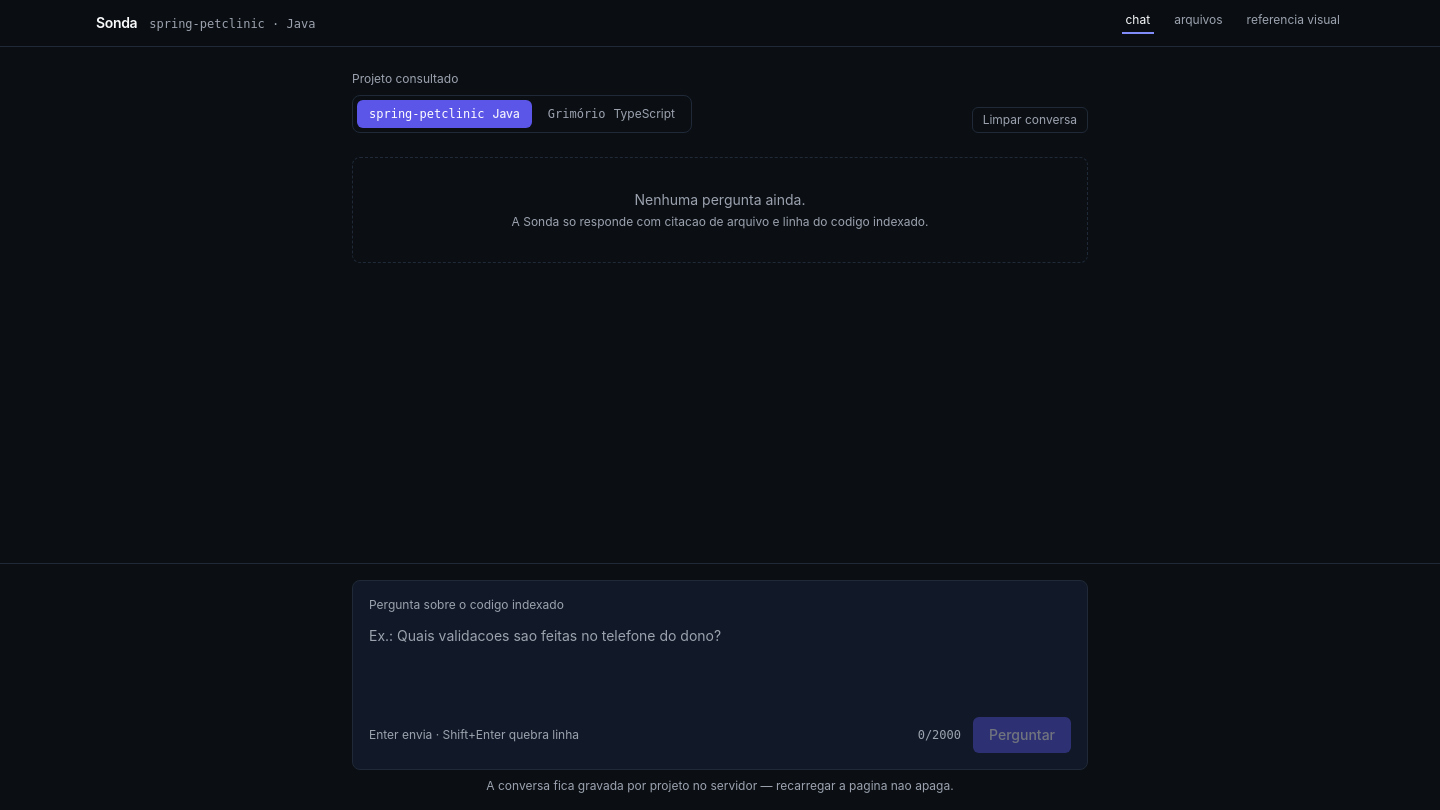
Test: historico por projeto › nunca mostra respostas de dois projetos ao mesmo tempo
In the text box labelled "Pergunta sobre o codigo indexado": point(720, 665) [369, 625, 1071, 705], type "um"
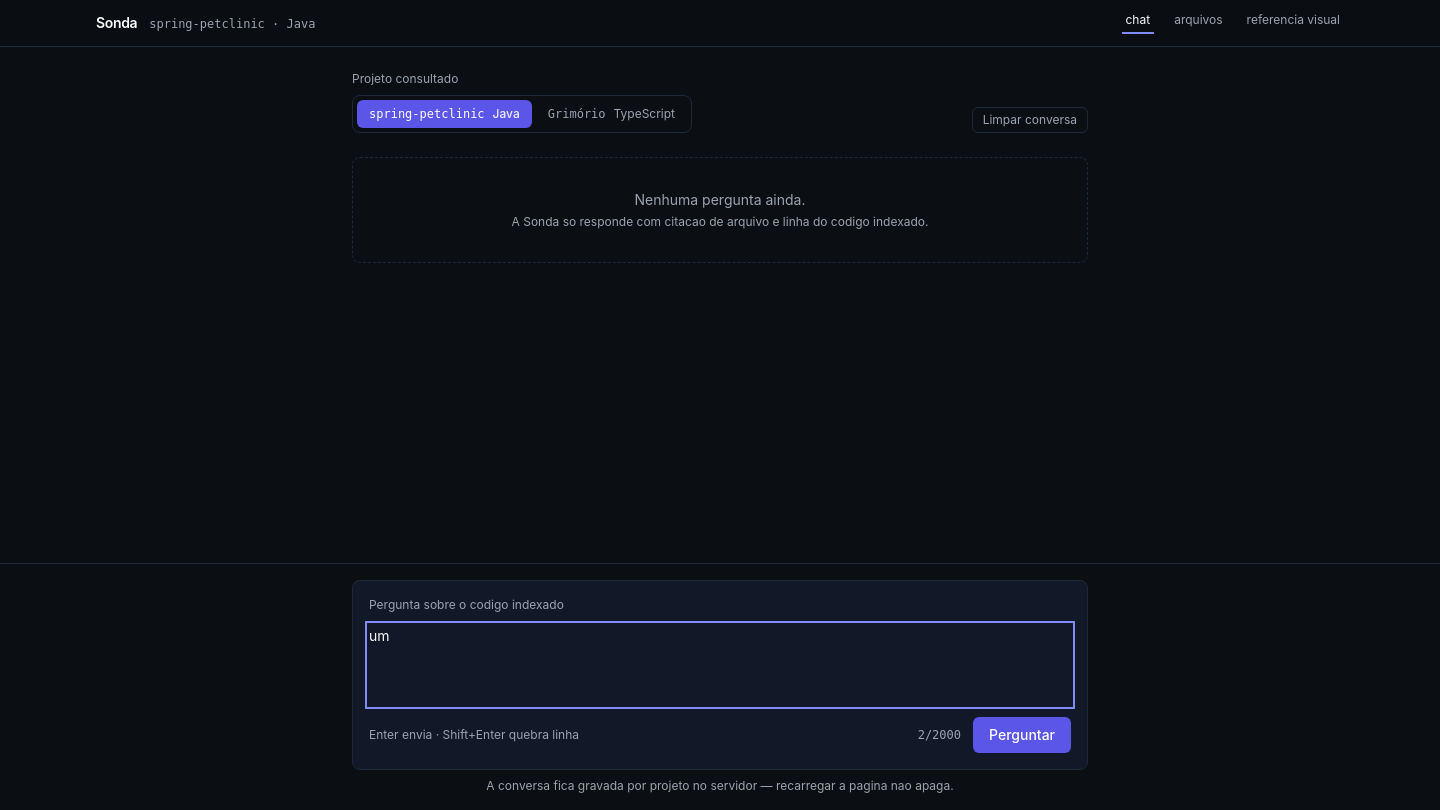
Press Enter
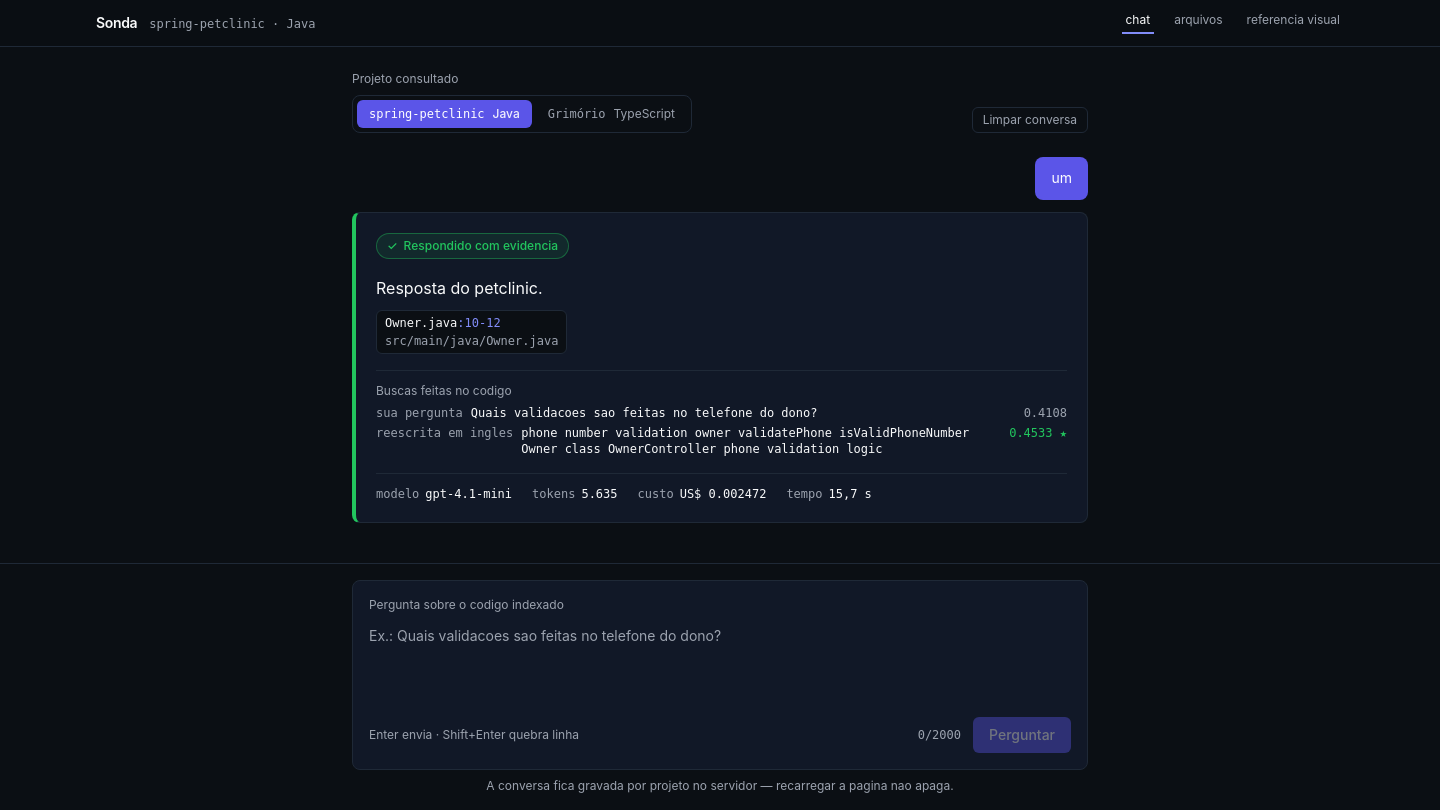
Expected: the button "Perguntar" is shown, [973, 717, 1071, 753]
Click the tab "Grimório TypeScript": point(611, 114) [536, 100, 687, 128]
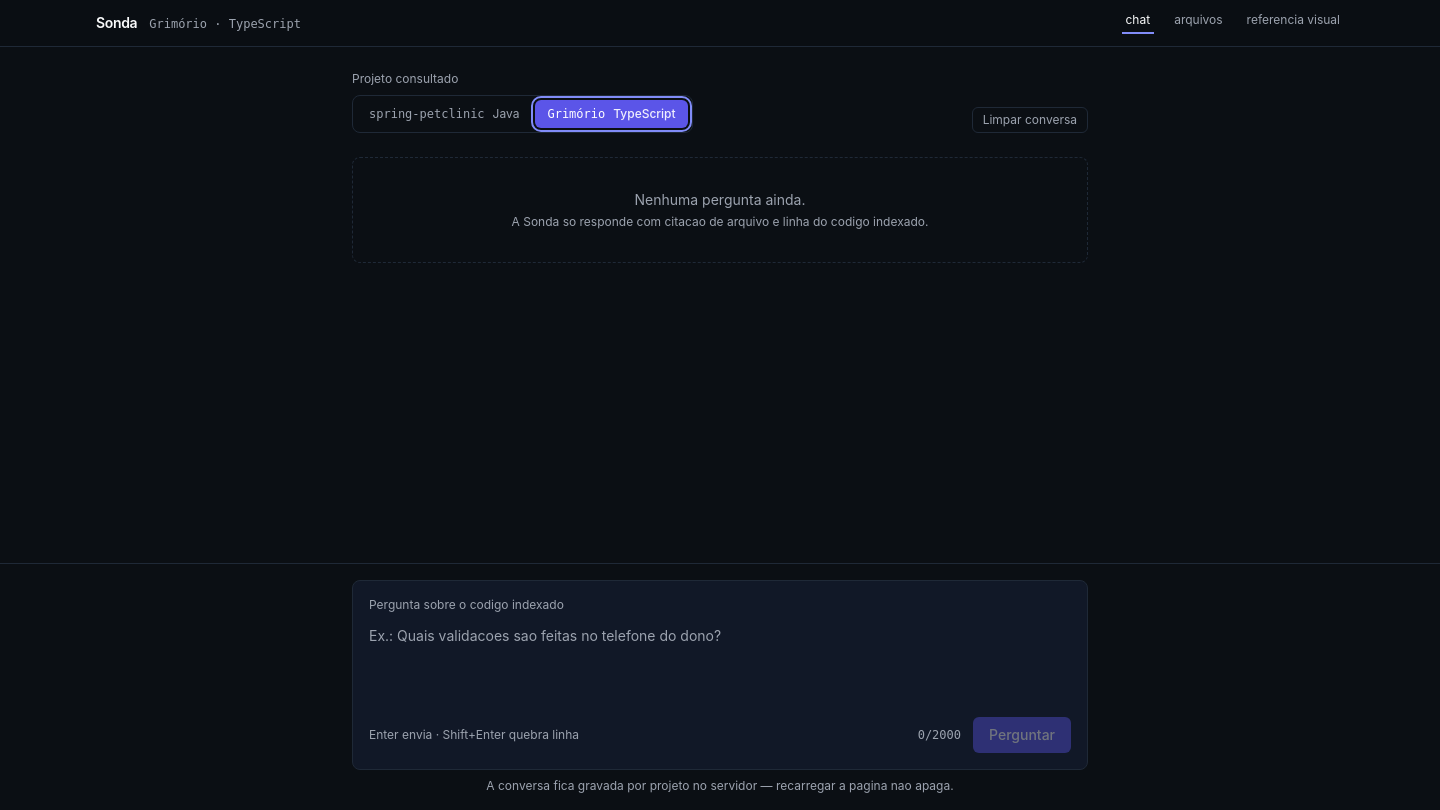
In the text box labelled "Pergunta sobre o codigo indexado": point(720, 665) [369, 625, 1071, 705], type "dois"
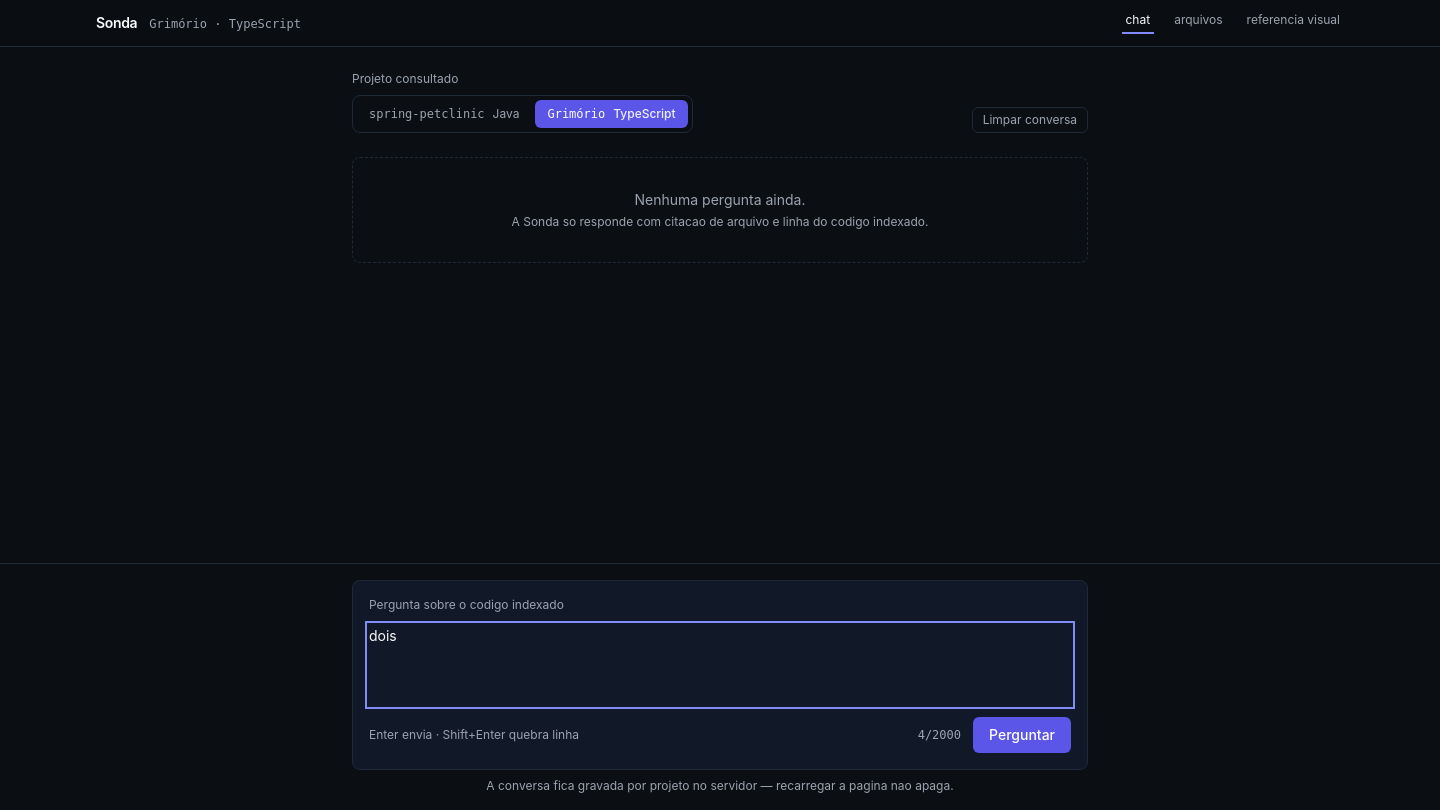
Press Enter
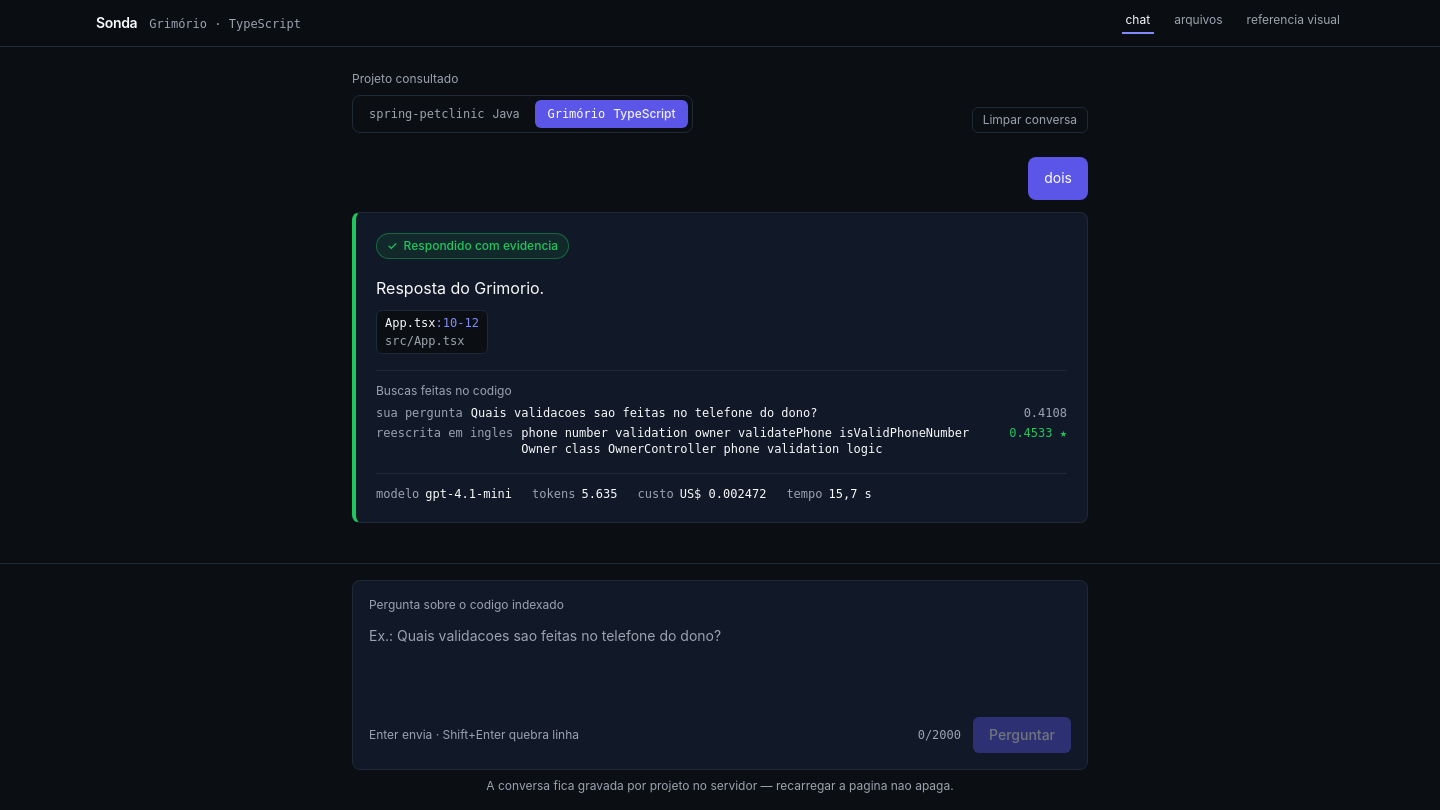
Expected: the button "Perguntar" is shown, [973, 717, 1071, 753]
Expected: the number of list items named "Turno 1 de 1: dois" is 1, [352, 157, 1088, 523]
